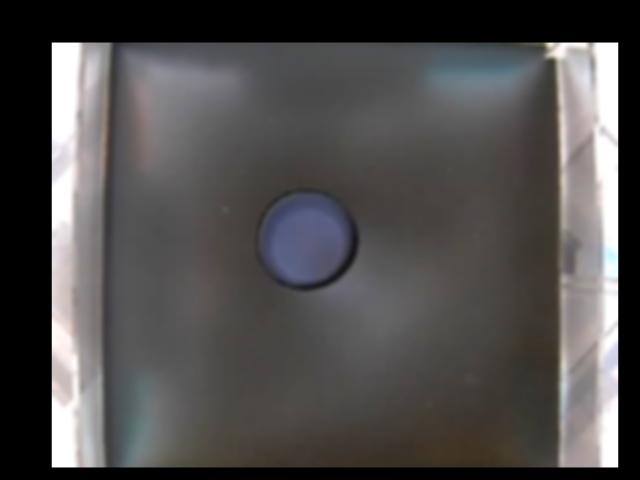Cup: (256, 188, 360, 290)
